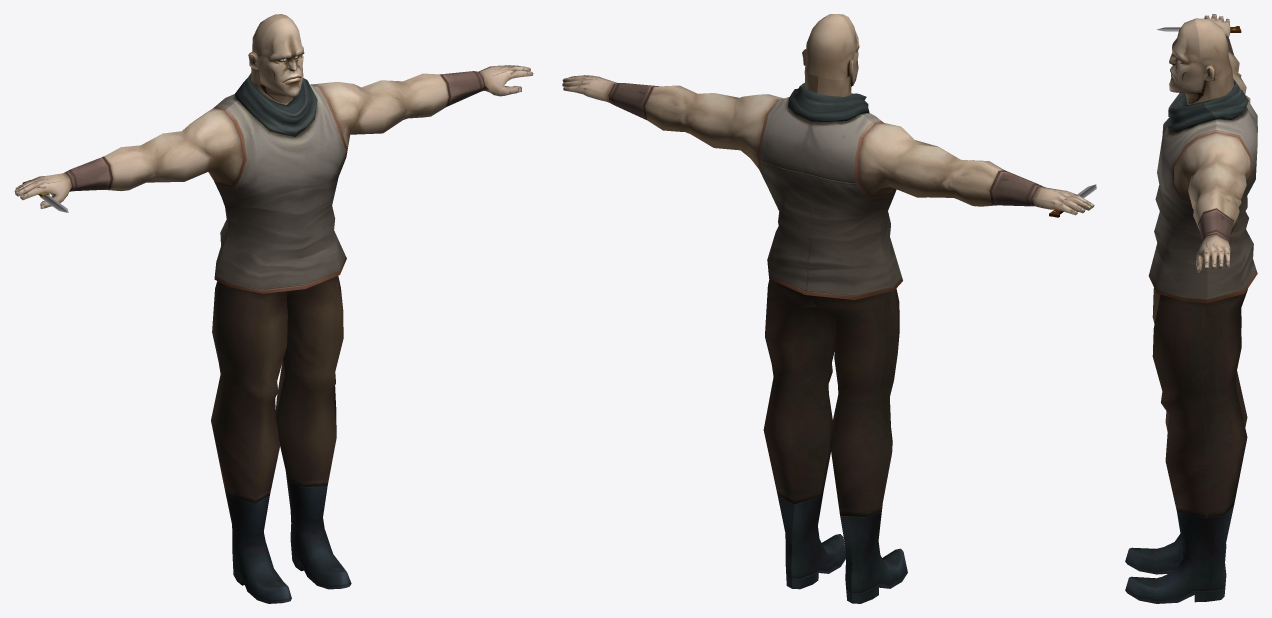
The model's file is BarGrunt.obj.
3 views of the same model, side by side, from view 1: azimuth 30°, elevation 25°; view 2: azimuth 150°, elevation 25°; view 3: azimuth 270°, elevation 25° (orthographic). The views are drawn at different scales.
Visible parts, largest first — view 1: Mesh_0051.rip; view 2: Mesh_0051.rip; view 3: Mesh_0051.rip.
Part boxes in pixels (x1,y1,x2,y2): Mesh_0051.rip: [14, 14, 533, 603]; Mesh_0051.rip: [562, 14, 1094, 603]; Mesh_0051.rip: [1125, 14, 1257, 603].
Size of the model in its own units: 2.14 by 2.21 by 0.4737.
1 material, 1 textured.
